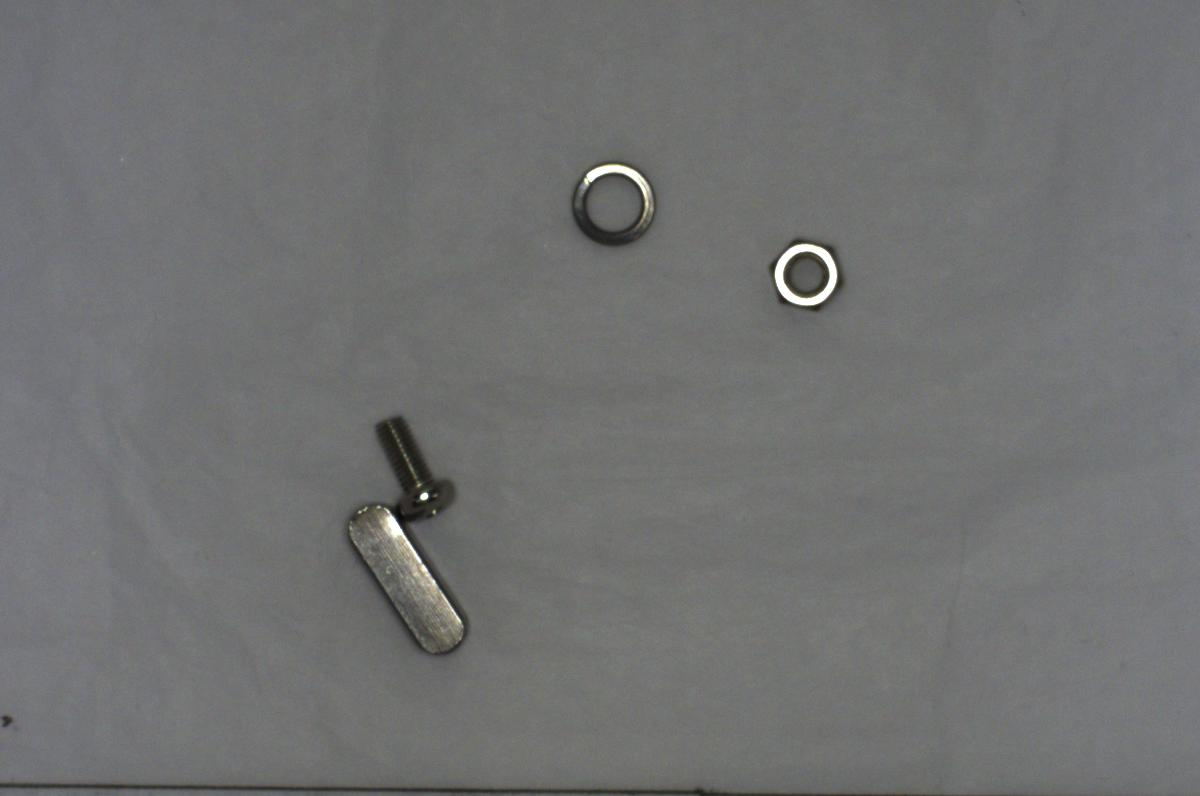Hexagon nut: (758, 233, 848, 318)
Keybar: (328, 490, 468, 660)
Round head screw: (367, 405, 471, 527)
Spring washer: (566, 154, 665, 252)
